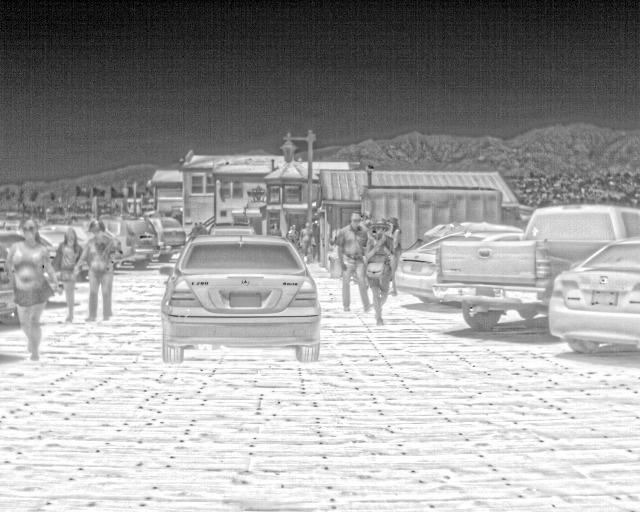car: (441, 200, 612, 352), (154, 230, 324, 371), (517, 190, 639, 355), (426, 228, 551, 327), (418, 215, 518, 295), (124, 211, 188, 260)
light: (279, 128, 328, 170)
person and bycle: (12, 216, 56, 355), (76, 217, 130, 325), (335, 207, 381, 320), (361, 214, 395, 321), (376, 198, 405, 313), (54, 228, 91, 313), (298, 220, 318, 260), (279, 221, 302, 244)
